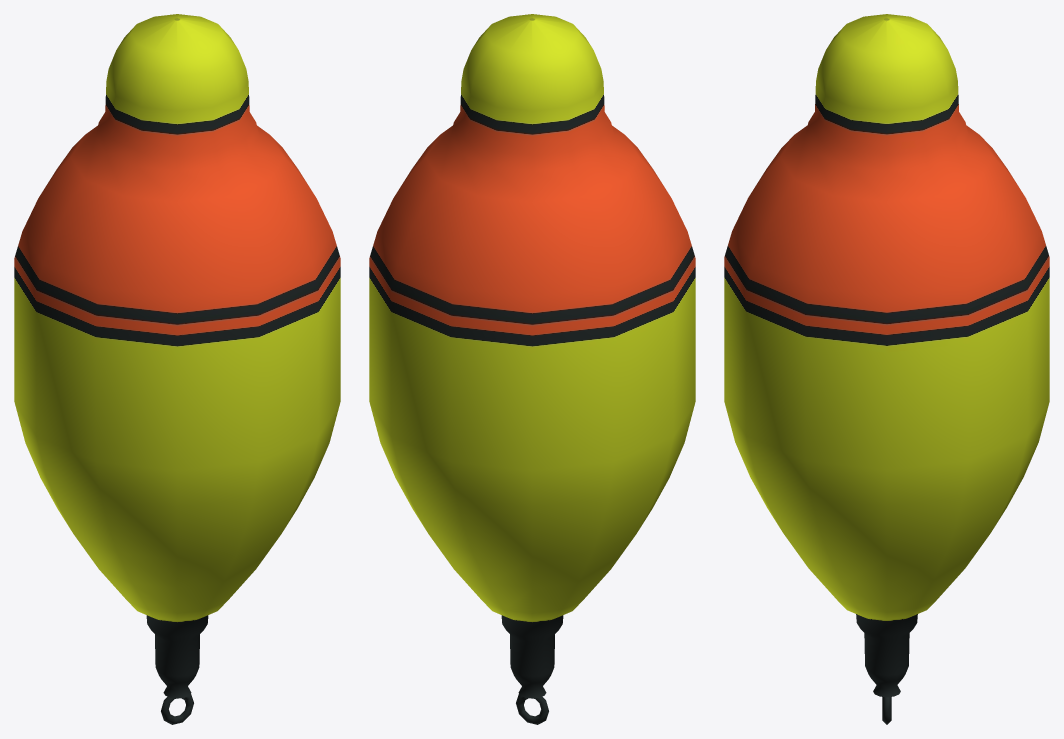
3 views of the same model, side by side, from view 1: azimuth 30°, elevation 25°; view 2: azimuth 150°, elevation 25°; view 3: azimuth 270°, elevation 25° (orthographic).
Visible parts, largest first — view 1: F32_Float; view 2: F32_Float; view 3: F32_Float.
Boxes of the visible parts, x1=… form: F32_Float: x1=14, y1=14, x2=340, y2=724; F32_Float: x1=369, y1=14, x2=695, y2=724; F32_Float: x1=724, y1=14, x2=1049, y2=724.
Bounding box in the file's own units: 0.0629 × 0.15 × 0.0629.
1 material, 1 textured.
